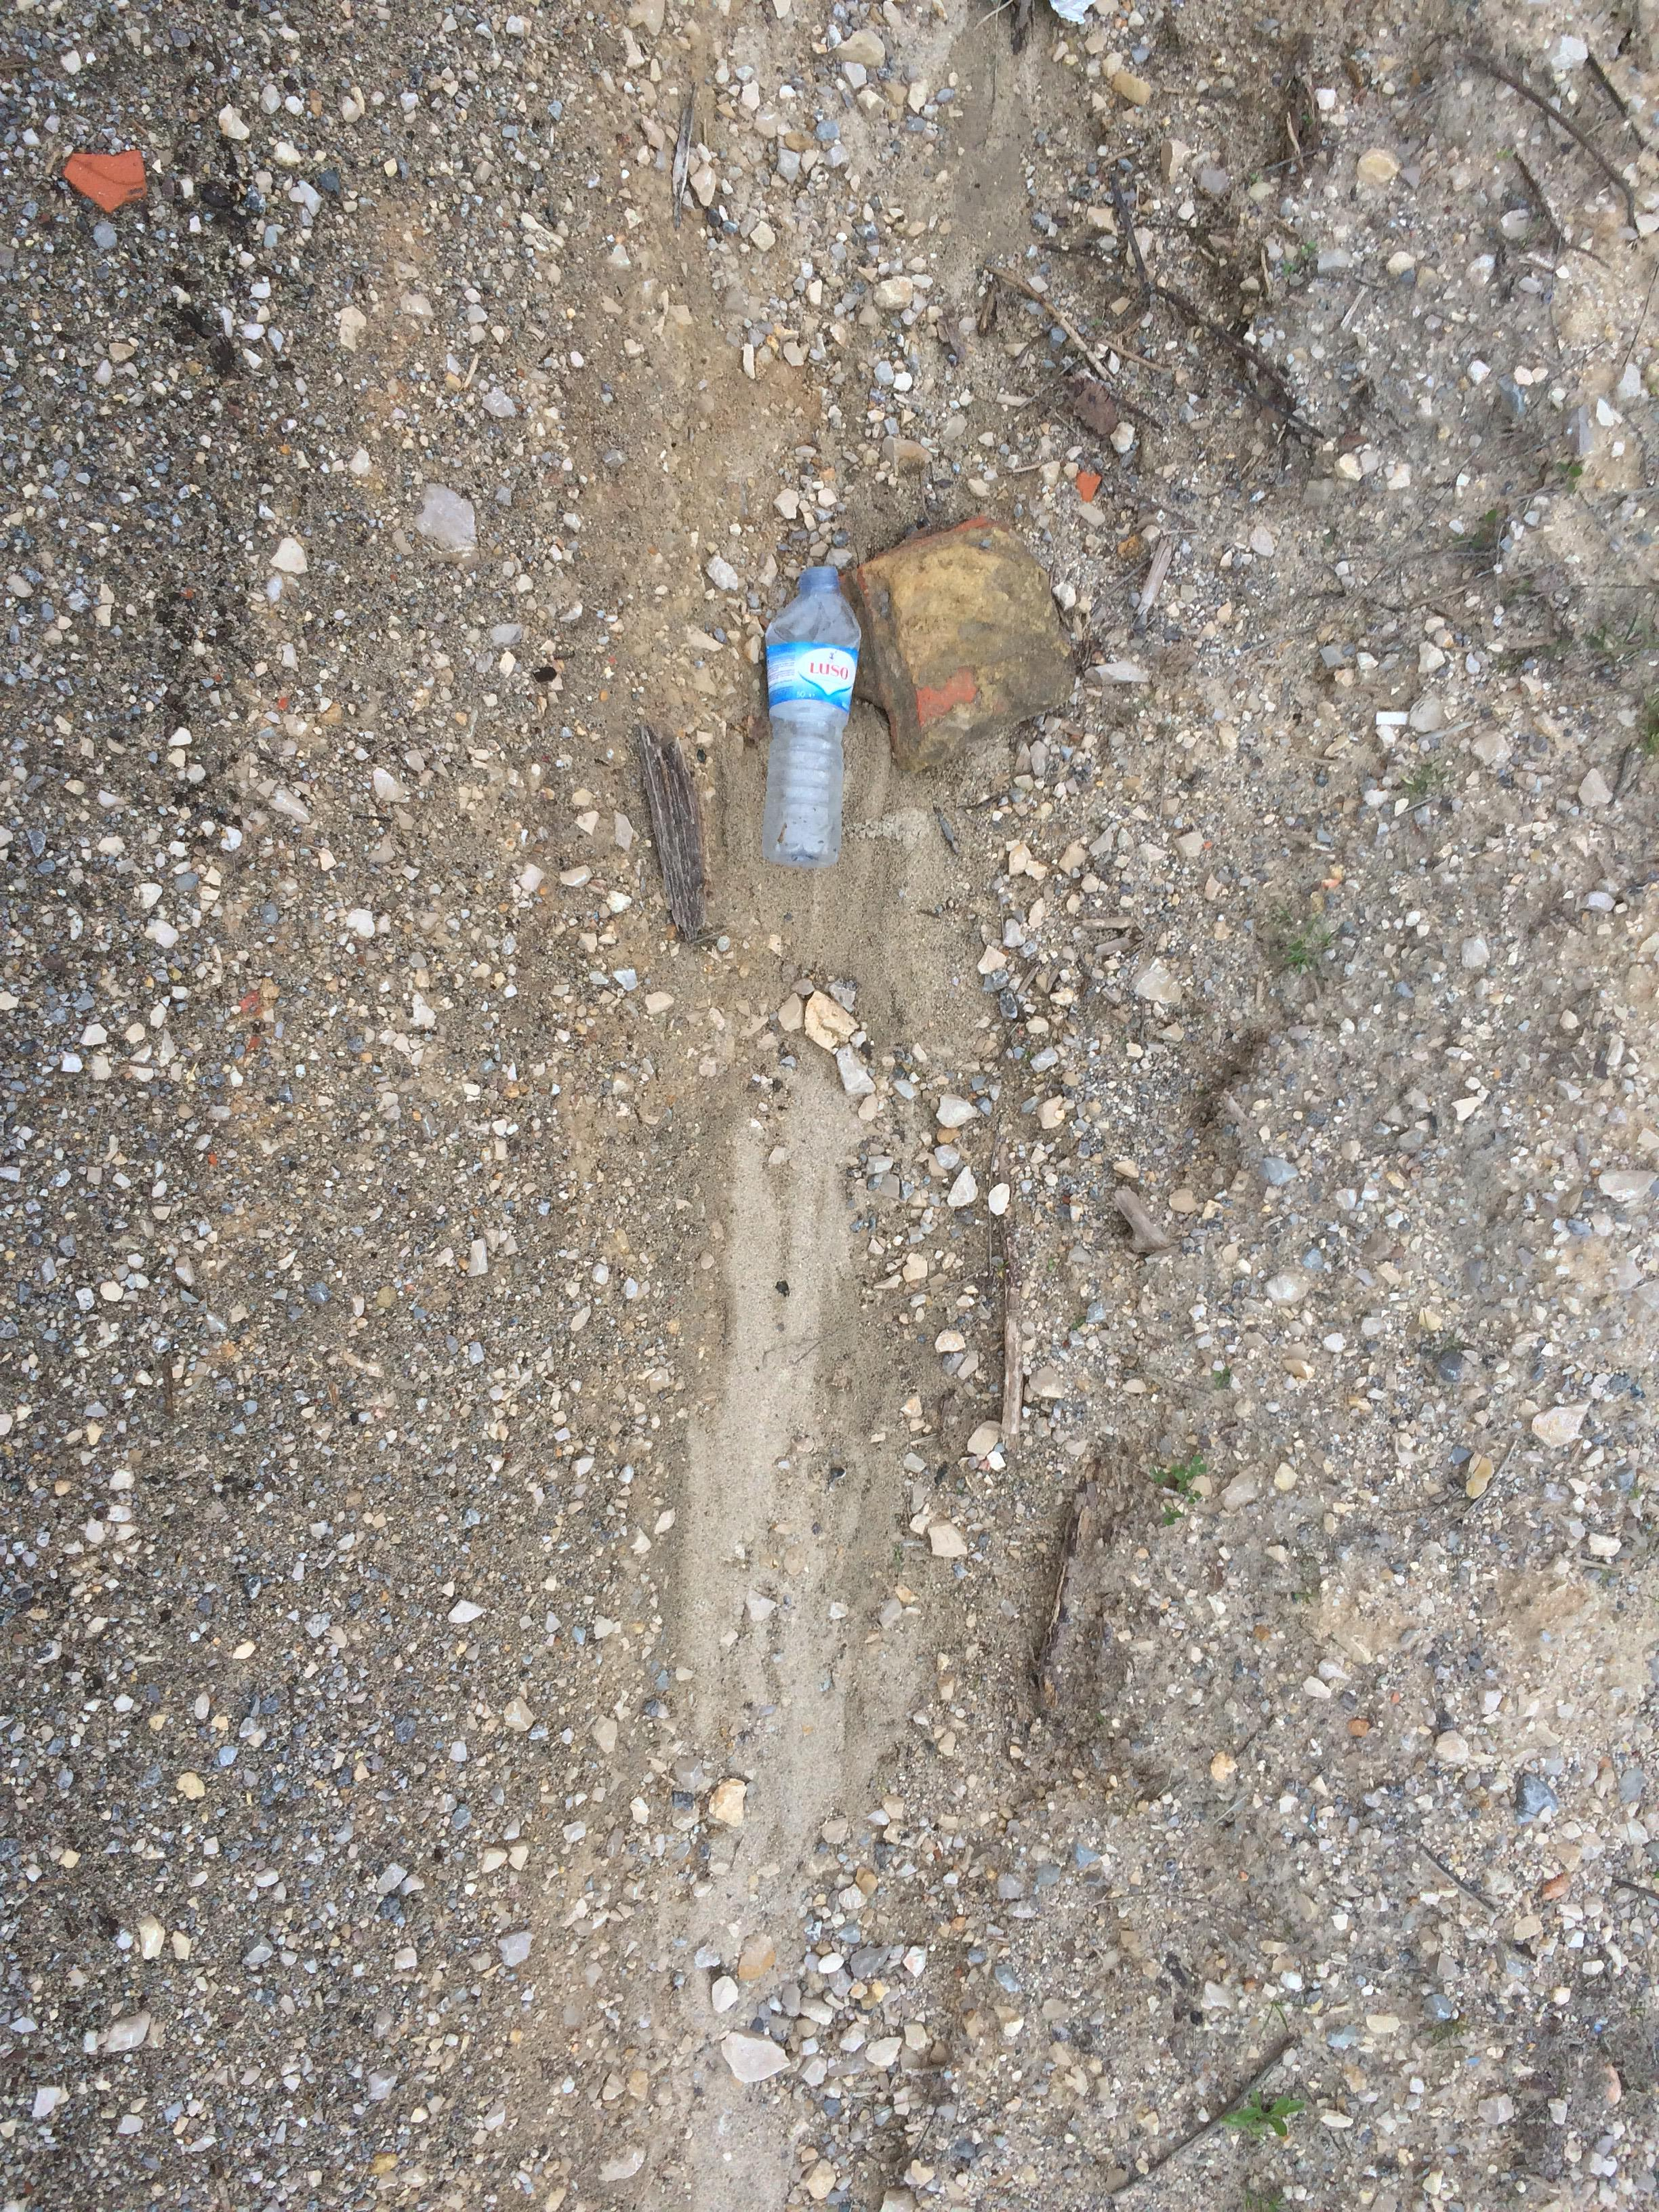Trash: (762, 556, 852, 869)
